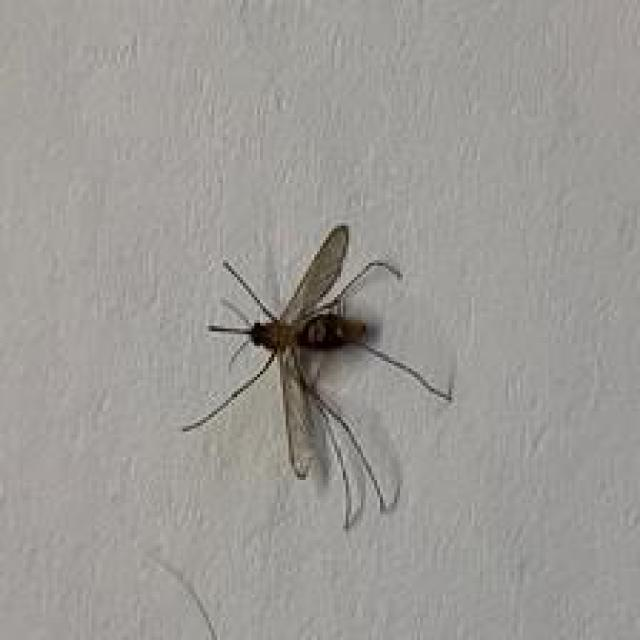Culex: (180, 223, 454, 531)
